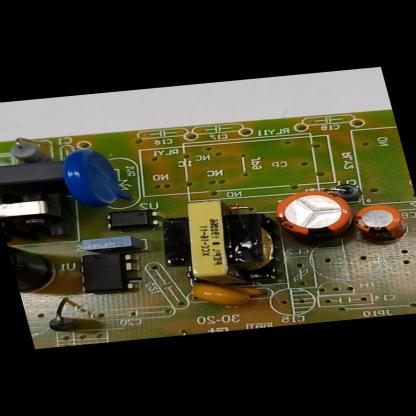Cap1: (271, 189, 355, 241)
Cap2: (352, 203, 409, 243)
Cap3: (5, 235, 54, 293)
MOSFET: (73, 251, 139, 294)
Mov: (59, 147, 129, 207)
Resistor: (8, 136, 50, 162)
Transformer: (155, 197, 281, 288), (0, 190, 52, 235)
